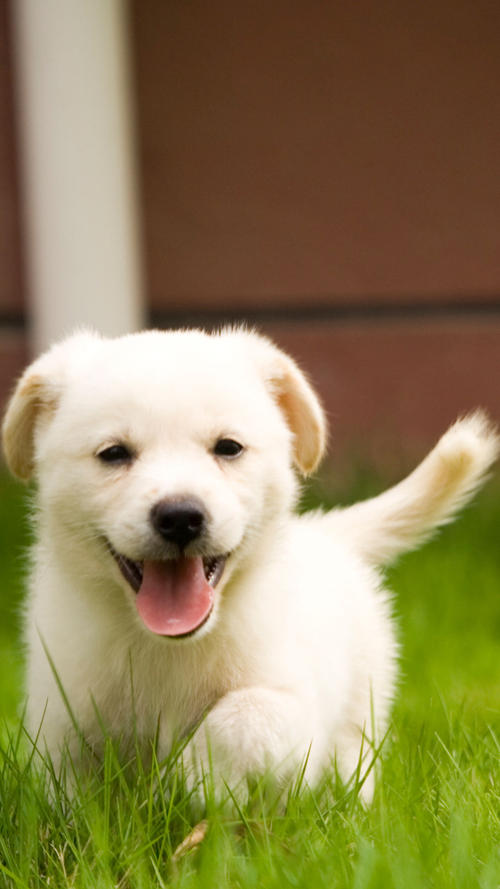dog: (3, 317, 352, 693)
